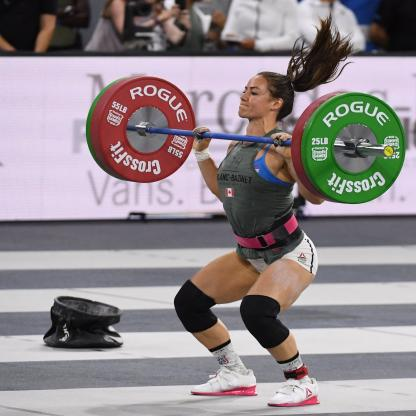barbell: (304, 93, 408, 206), (98, 77, 198, 185)
